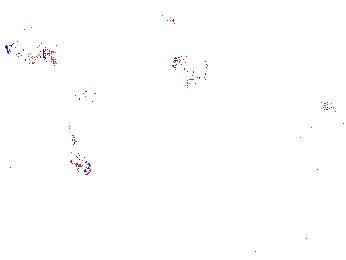X-ray fish: (63, 135, 94, 177)
glassfish: (217, 102, 323, 170)
red belly glassfish: (165, 13, 201, 31)
redtail glassfish: (19, 20, 69, 62), (3, 38, 58, 69), (167, 53, 211, 91)
